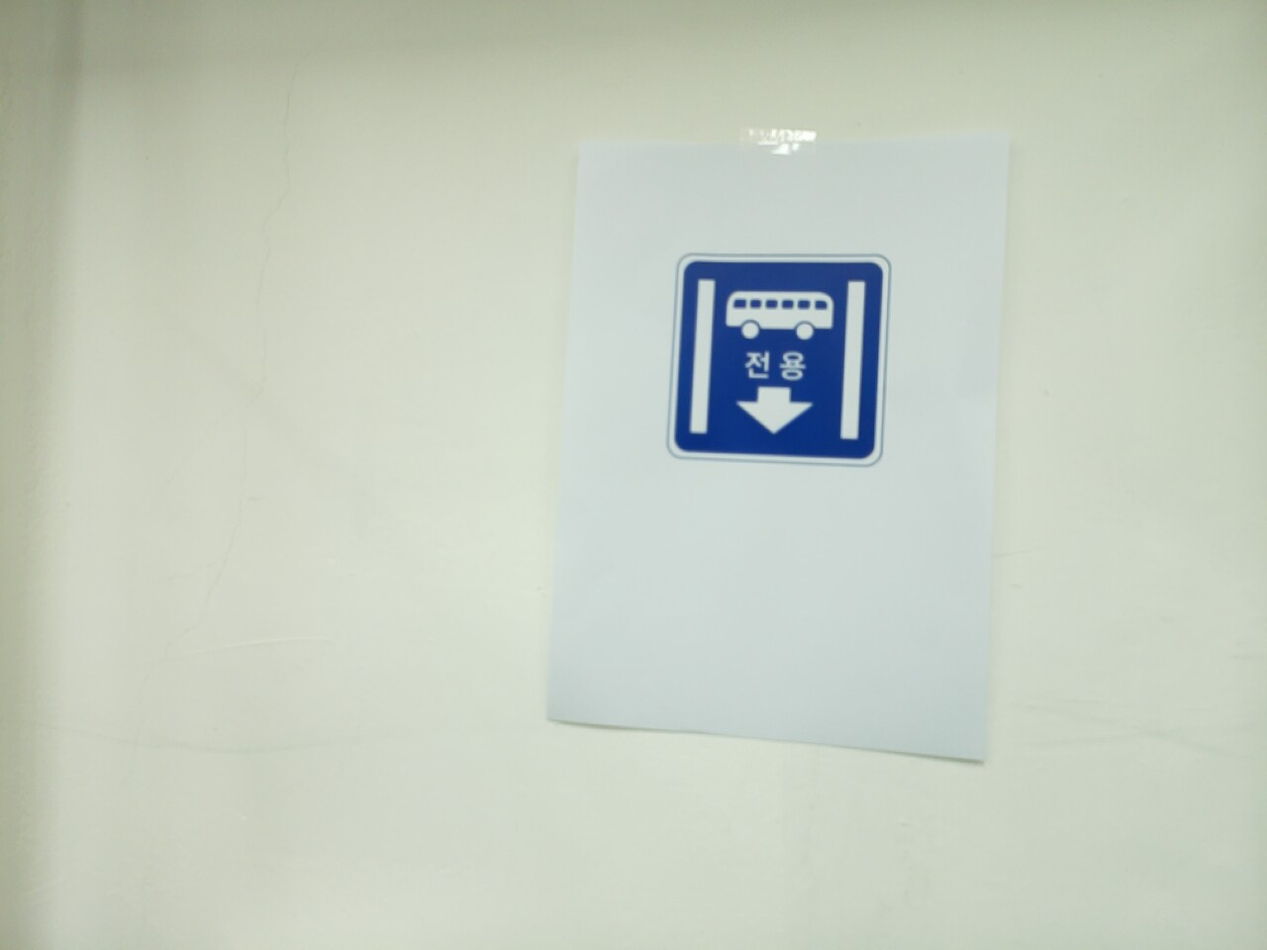bus_only_lane: (666, 252, 891, 467)
